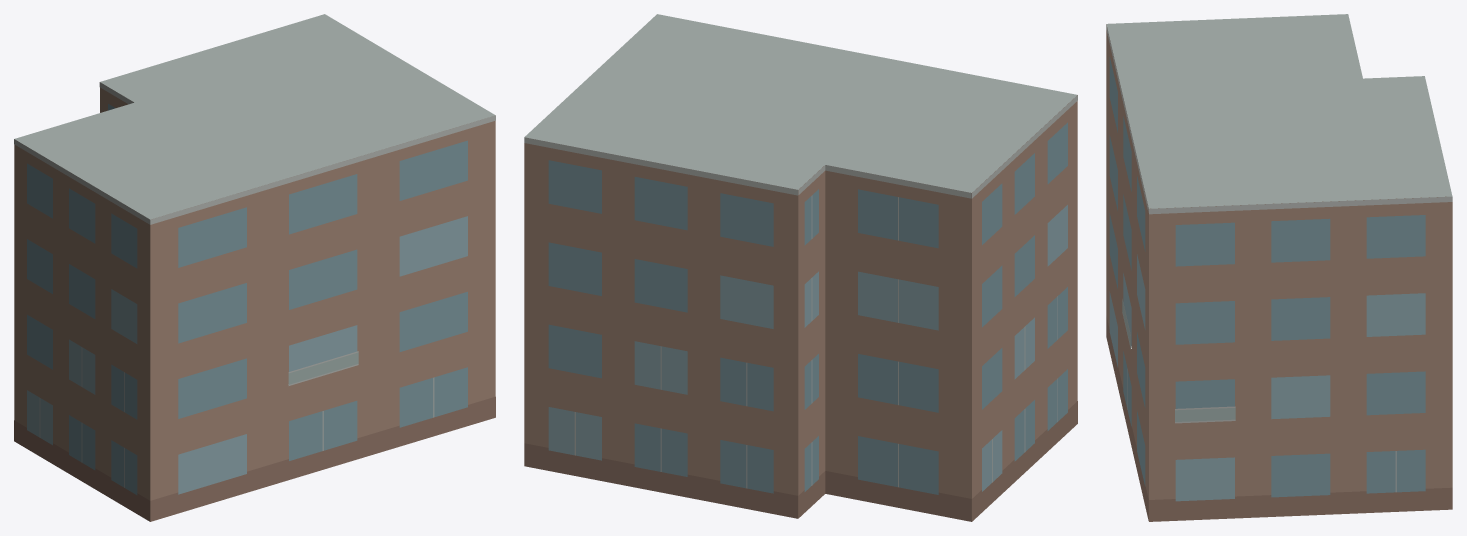
File: survey-upis-32757038.glb
3 views of the same model, side by side, from view 1: azimuth 30°, elevation 25°; view 2: azimuth 150°, elevation 25°; view 3: azimuth 270°, elevation 25° (orthographic). The views are drawn at different scales.
Parts seen in each view (by area): view 1: survey-upis-32757038.tmp; view 2: survey-upis-32757038.tmp; view 3: survey-upis-32757038.tmp.
Boxes of the visible parts, x1,y1,x2,y2 form: survey-upis-32757038.tmp: (14, 14, 495, 521); survey-upis-32757038.tmp: (524, 14, 1077, 521); survey-upis-32757038.tmp: (1106, 14, 1452, 521).
Size of the model in its own units: 18.63 by 13.95 by 13.99.
